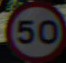Speed limit: (8, 3, 61, 55)
